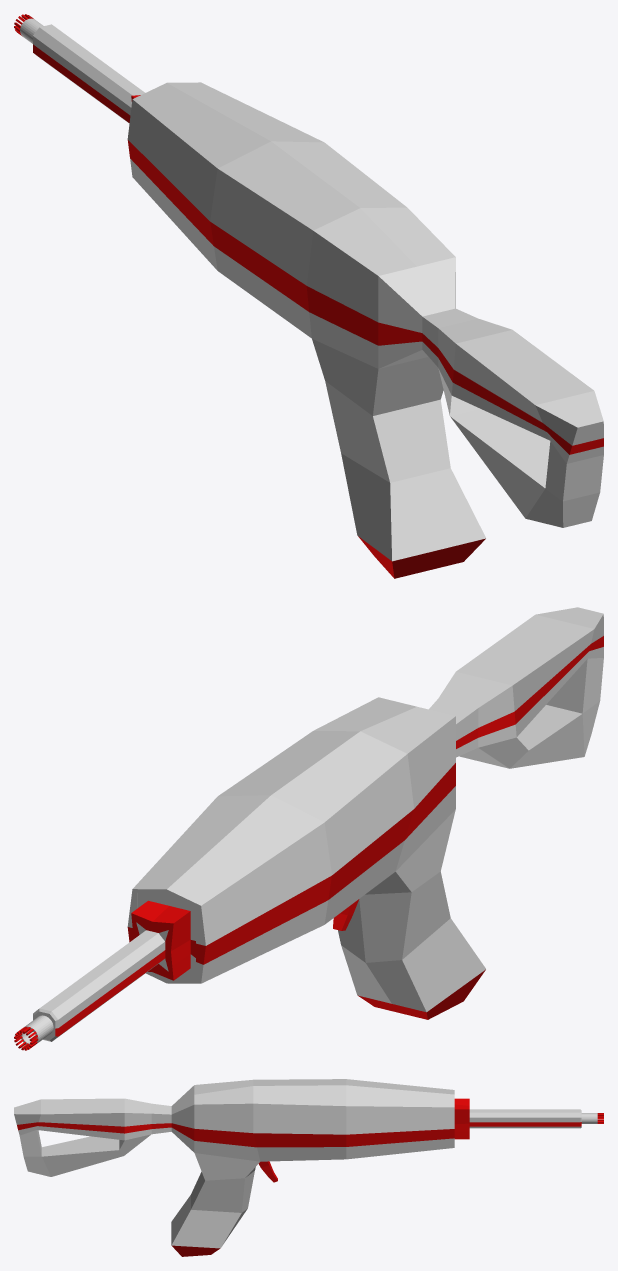
File: shotgun_laser.fbx
3 renders of one model, top to bottom at view 1: azimuth 30°, elevation 25°; view 2: azimuth 150°, elevation 25°; view 3: azimuth 270°, elevation 25°, orthographic. The views are drawn at different scales.
Visible parts, largest first — view 1: Cube; view 2: Cube; view 3: Cube.
Boxes of the visible parts, x1,y1,x2,y2 form: Cube: [14, 14, 603, 578]; Cube: [14, 607, 603, 1050]; Cube: [14, 1079, 603, 1256].
Size of the model in its own units: 259 by 636 by 2087.
